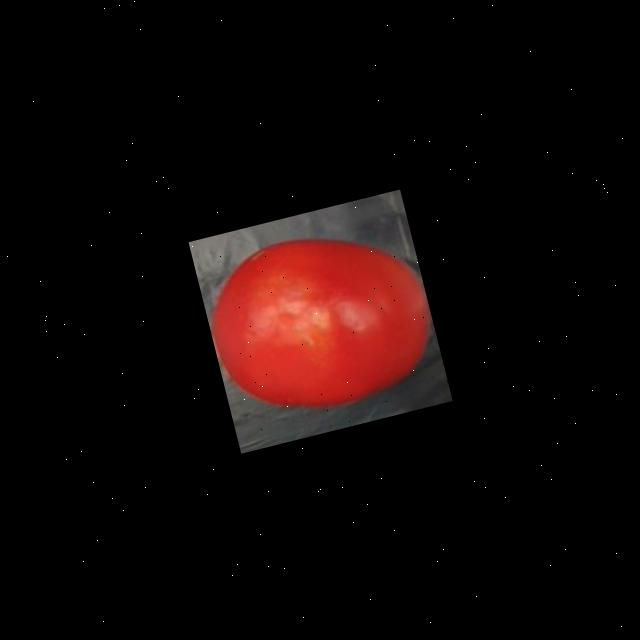tomato: (193, 209, 446, 428)
